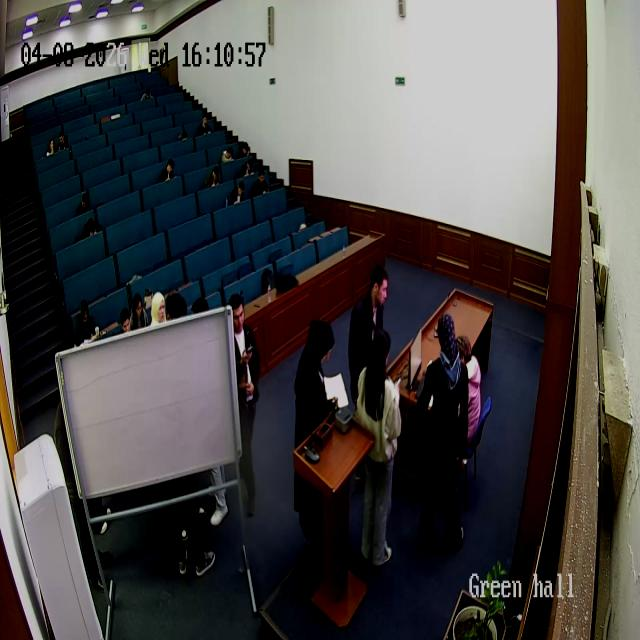person: (157, 296, 215, 578), (414, 314, 471, 554), (355, 328, 403, 568), (294, 316, 340, 548), (224, 294, 263, 518), (347, 265, 389, 408), (457, 335, 483, 457), (76, 299, 98, 343), (128, 292, 150, 330), (149, 291, 167, 325), (252, 167, 270, 197), (227, 180, 246, 207), (82, 217, 102, 241), (118, 307, 134, 333), (160, 158, 176, 184), (205, 166, 221, 190), (76, 192, 92, 216), (196, 115, 212, 137), (222, 145, 238, 165), (56, 132, 70, 154), (240, 158, 256, 177), (136, 88, 154, 104), (178, 124, 192, 142), (236, 142, 253, 156), (45, 140, 57, 159)
